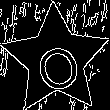O_N: (28, 28, 84, 92)
